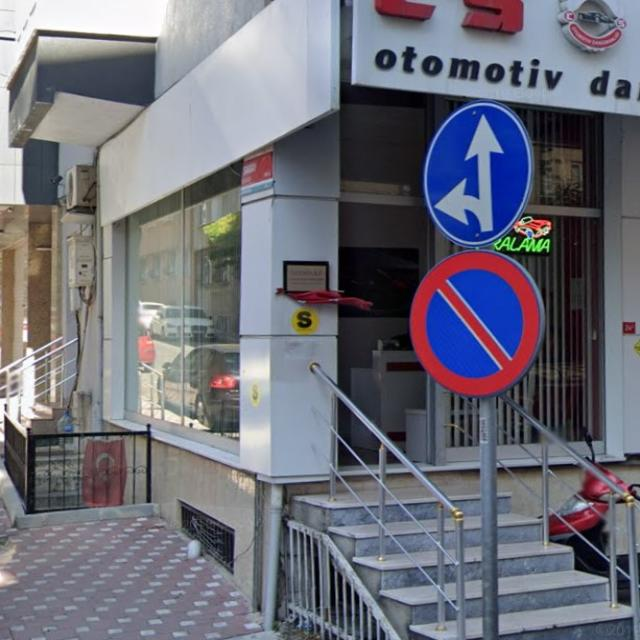ilerisol: (423, 98, 533, 245)
parkyasak: (407, 251, 545, 396)
